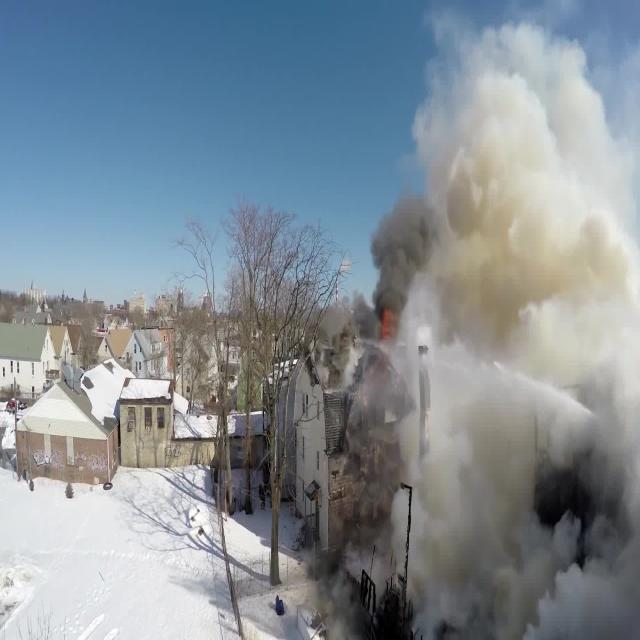Smoke: (361, 0, 640, 640)
